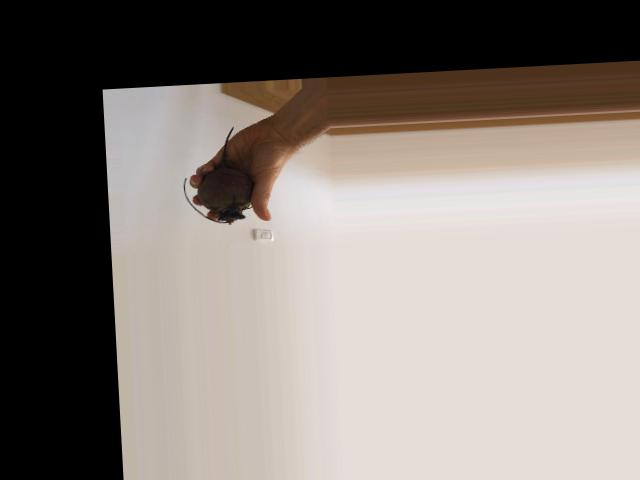beet: (179, 125, 253, 226)
